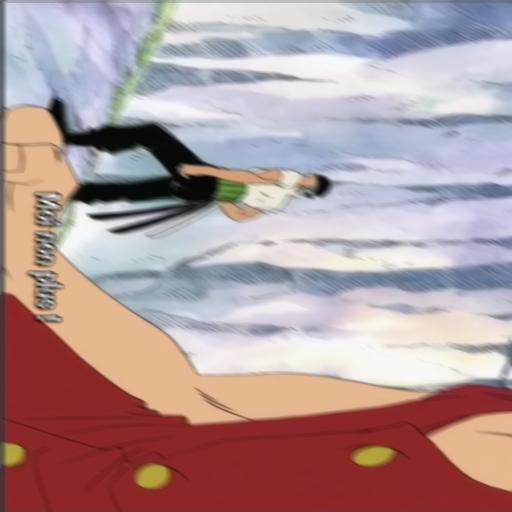Luffy: (0, 251, 512, 512)
Zoro: (41, 102, 346, 236)
